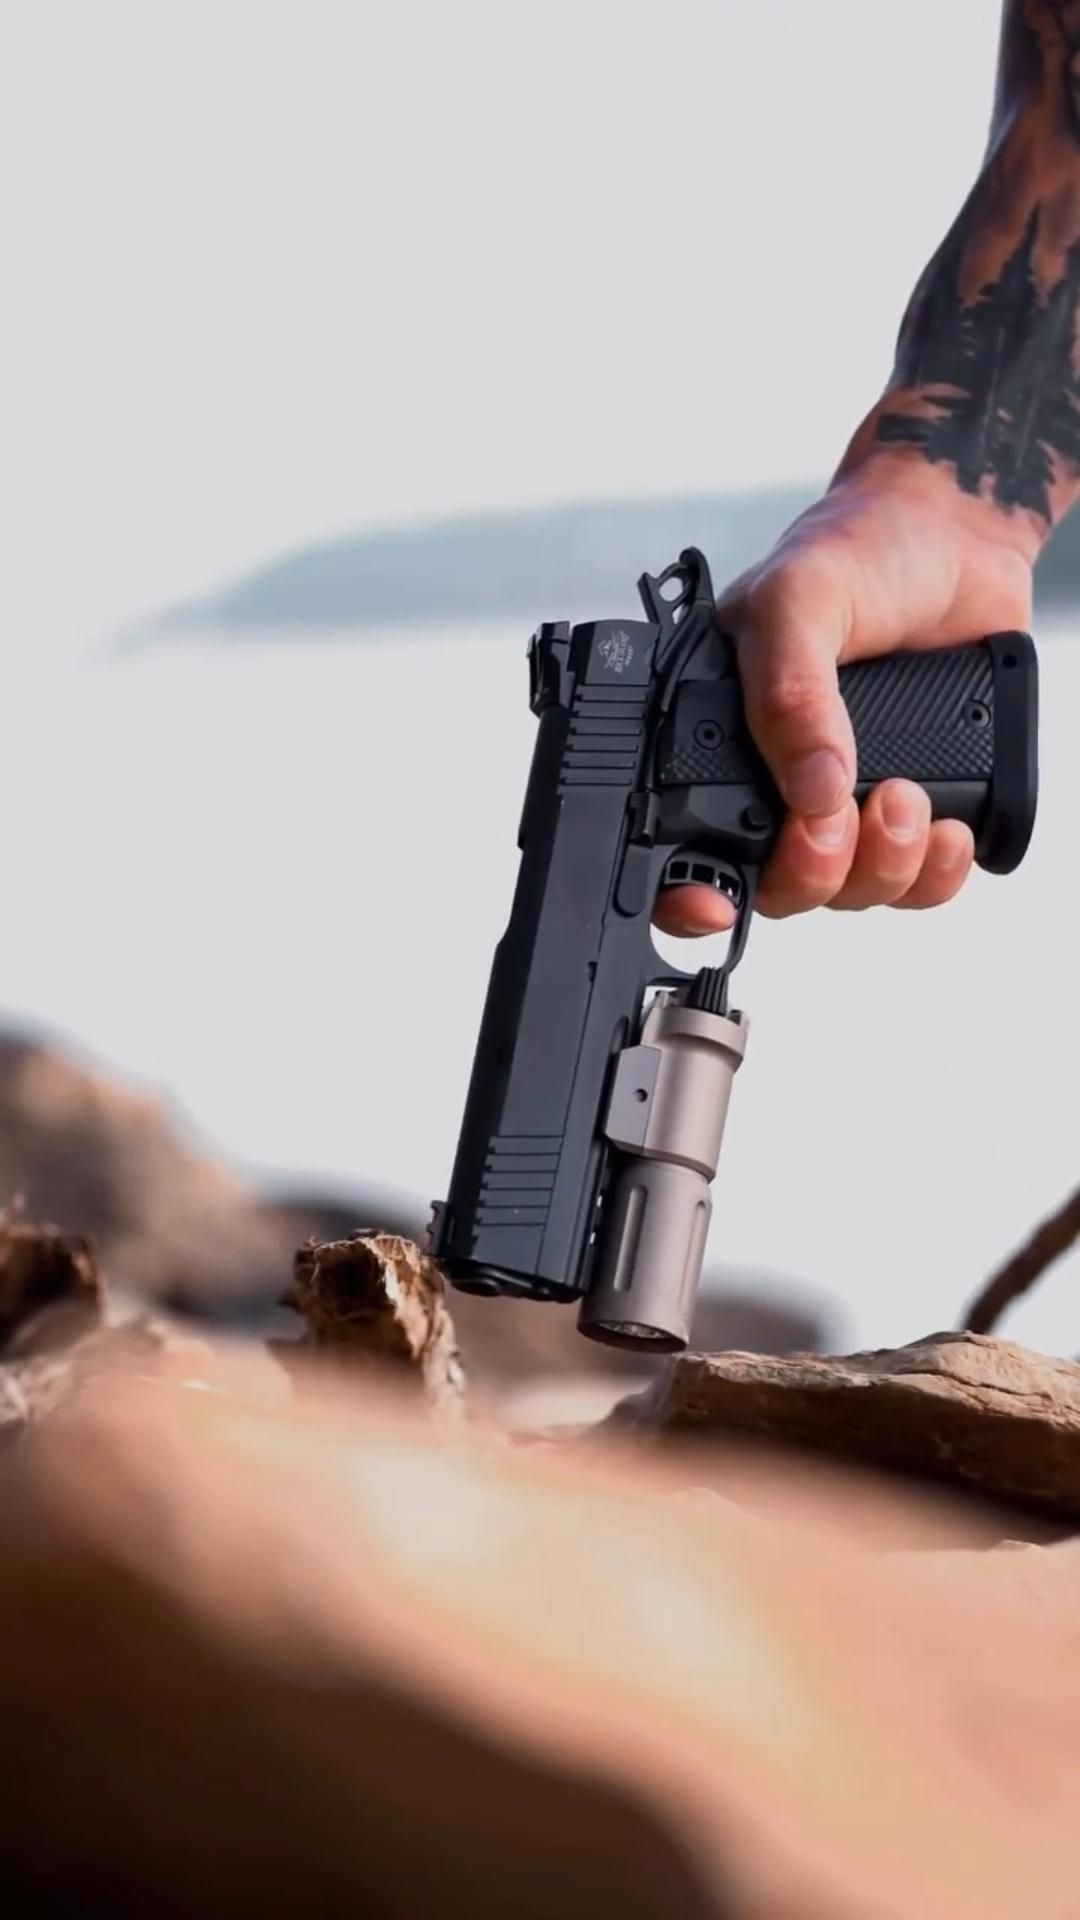gun: (425, 538, 1052, 1367)
